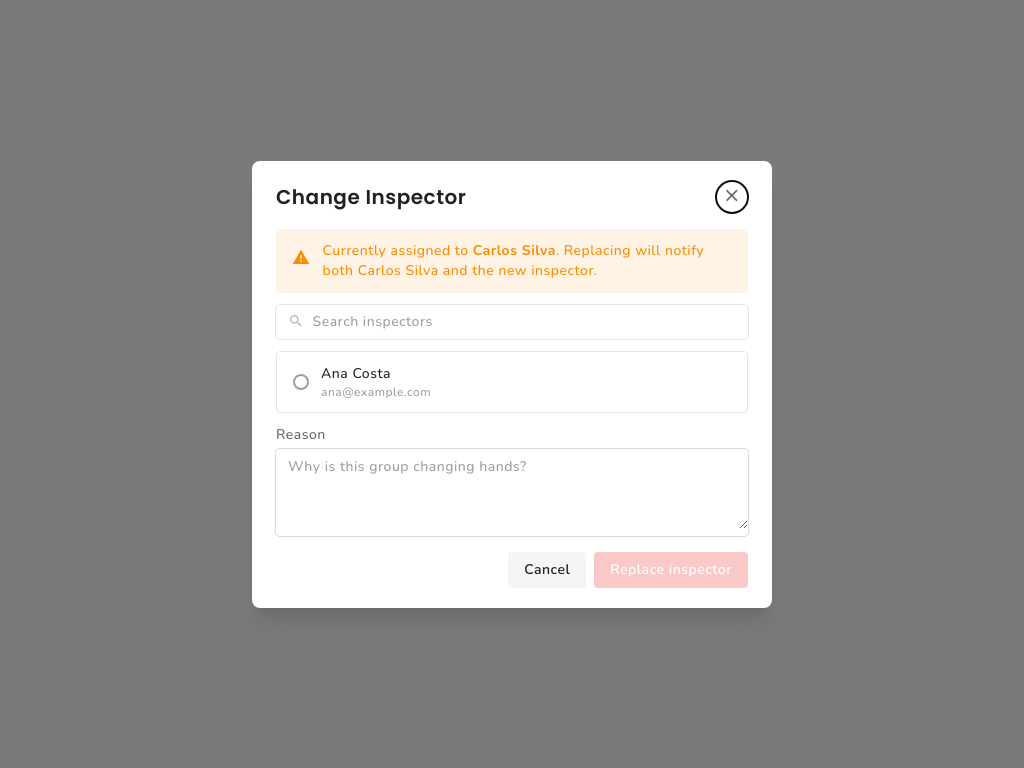
Test: ManualAssignModal replacement mode › requires a reason even once an inspector is chosen
This screenshot has width=1024, height=768.
Click the text "Ana Costa": coordinates (356, 373) [321, 364, 391, 382]
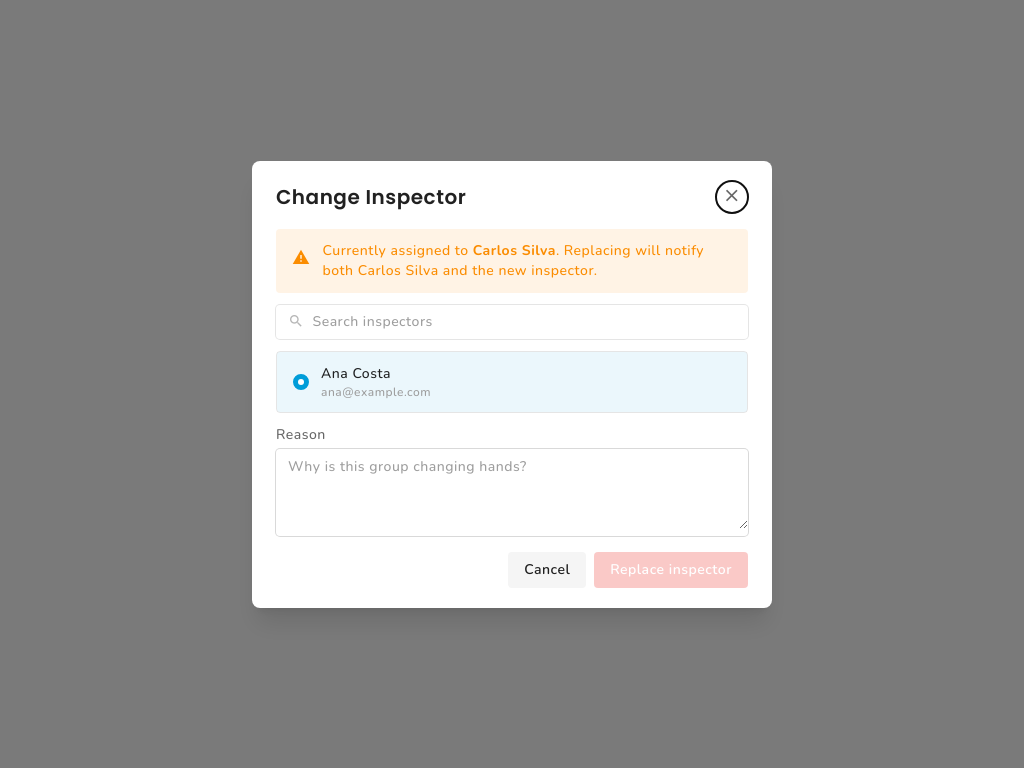
Check: the button "Replace inspector" is disabled, box [594, 552, 748, 588]
In the text box named "Reason": coordinates (512, 488) [276, 448, 748, 528], type "Inspector unavailable"
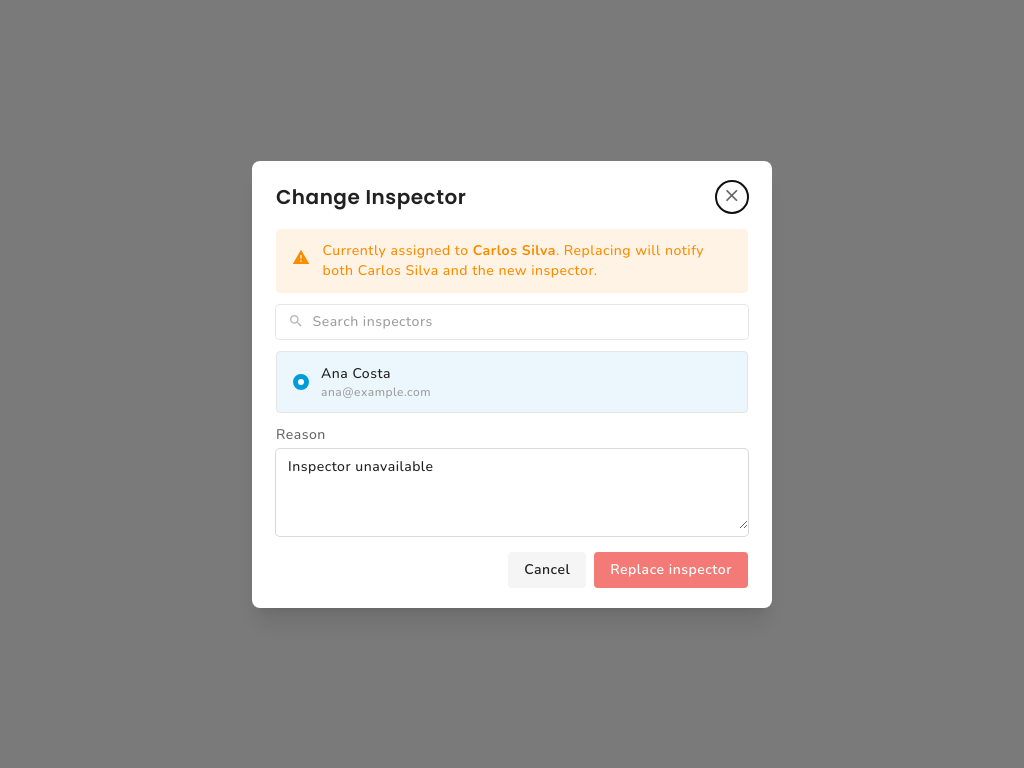
Check: the button "Replace inspector" is enabled, box [594, 552, 748, 588]
